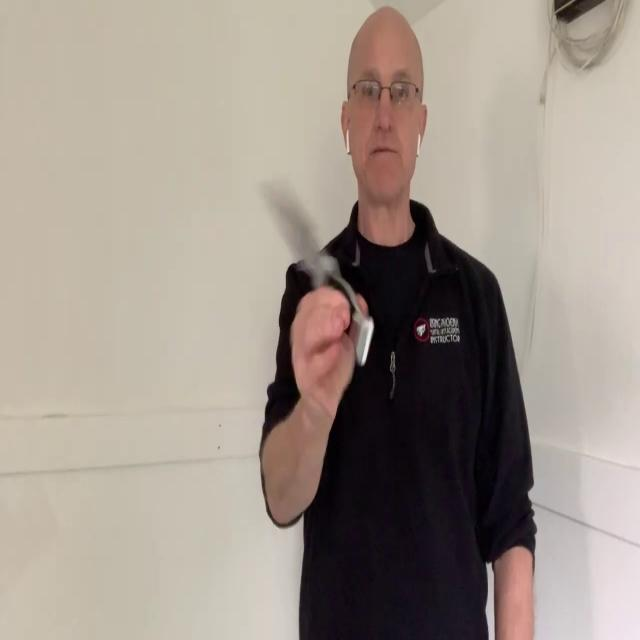Knife_Handle: (261, 182, 374, 417)
